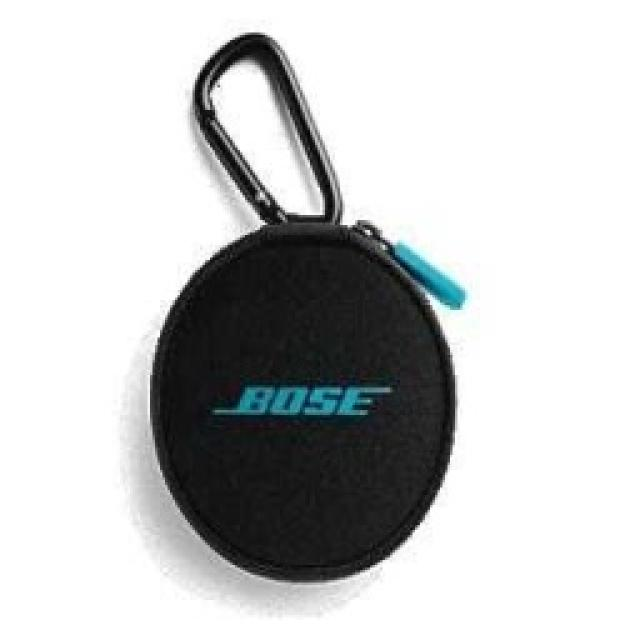headphones: (145, 28, 465, 582)
